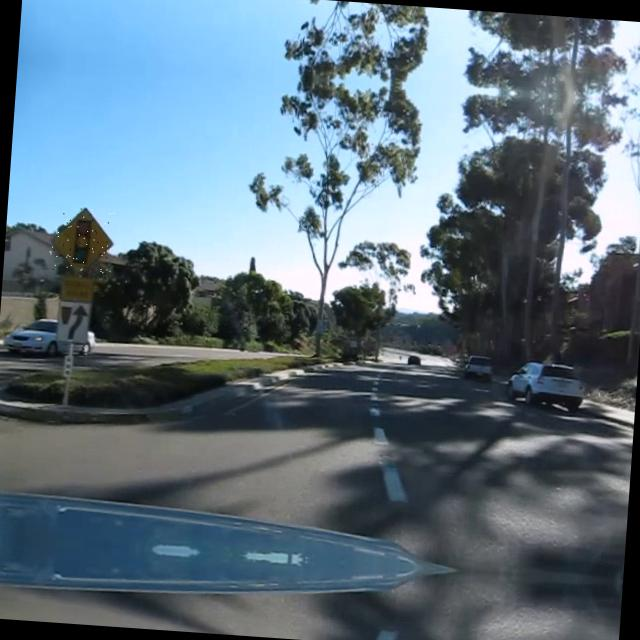signalAhead: (47, 204, 115, 278)
